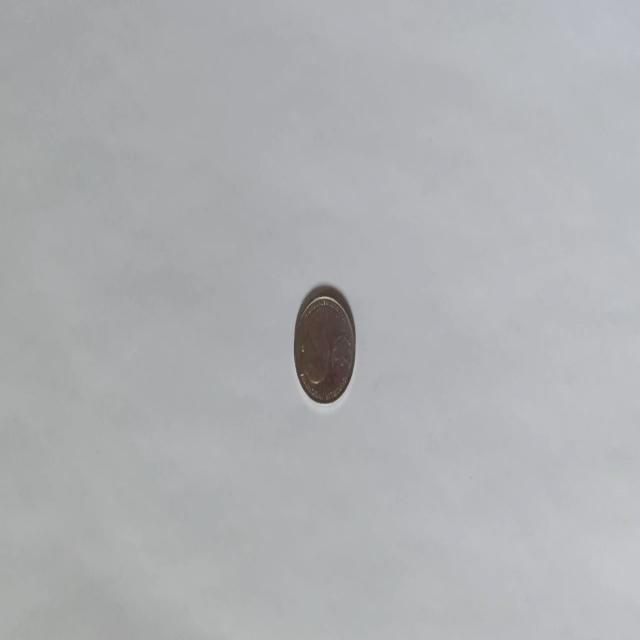seribu rupiah koin: (292, 286, 356, 406)
